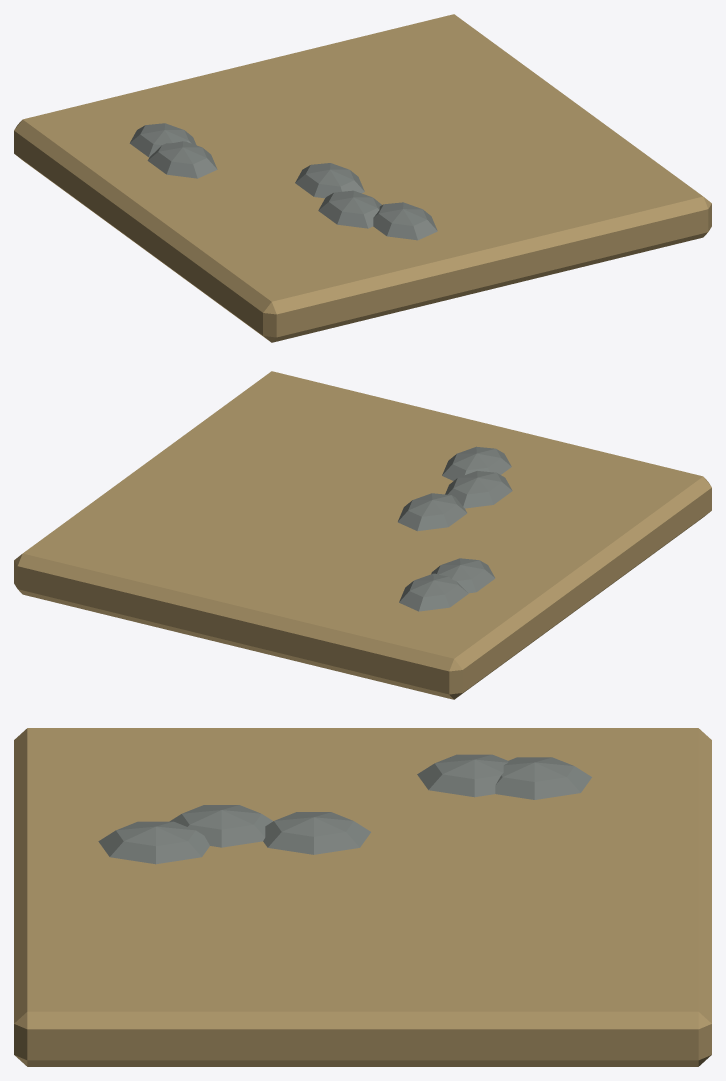
File: coast-seabed.lod0.glb
The picture shows the model from 3 angles, top to bottom: view 1: azimuth 30°, elevation 25°; view 2: azimuth 150°, elevation 25°; view 3: azimuth 270°, elevation 25°; orthographic projection. The views are drawn at different scales.
Parts seen in each view (by area): view 1: coast-seabed__body; view 2: coast-seabed__body; view 3: coast-seabed__body.
Part boxes in pixels (x1=…): coast-seabed__body: x1=14, y1=14, x2=711, y2=342; coast-seabed__body: x1=14, y1=371, x2=711, y2=699; coast-seabed__body: x1=14, y1=728, x2=711, y2=1066.
Size of the model in its own units: 4 by 0.47 by 4.
